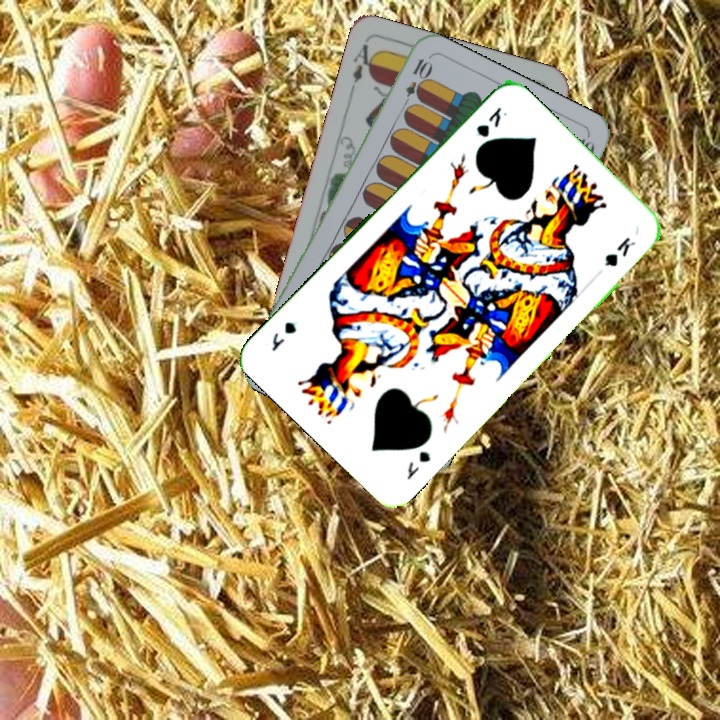E10: (398, 54, 433, 112)
EA: (346, 39, 379, 96)
GK: (472, 102, 510, 140), (402, 446, 434, 483)
